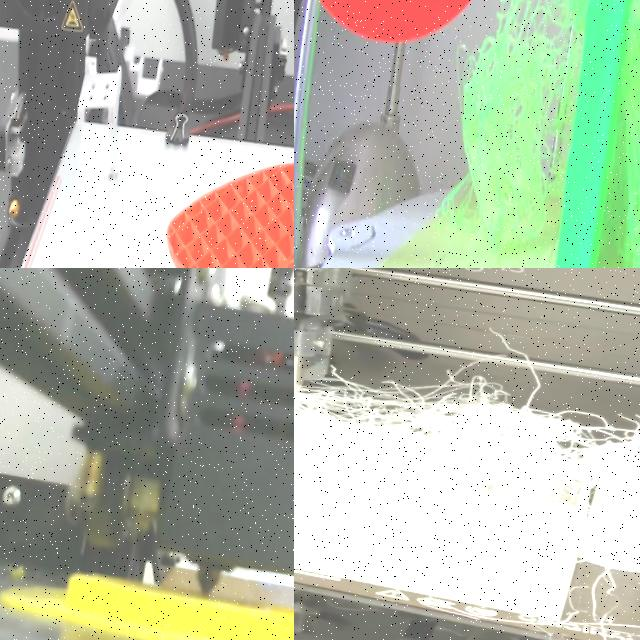spaghetti: (294, 312, 640, 640), (458, 0, 579, 255)
